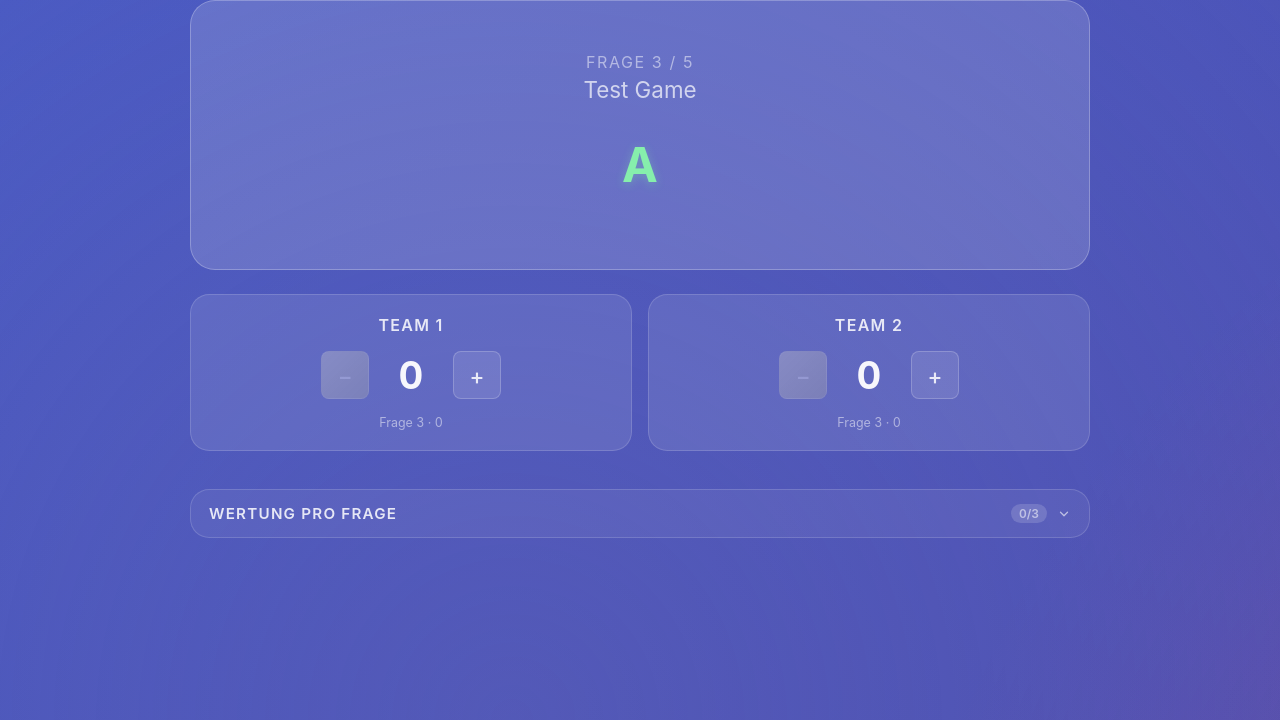
Test: QuestionScorePanel — tally feed (normal games) › is collapsed by default and expands on click
The image size is (1280, 720).
Expected: the element with class "gm-qscore" is shown, [190, 489, 1090, 538]
Click the text "Wertung pro Frage" at (303, 514), box [209, 504, 397, 523]
(page scrolled)
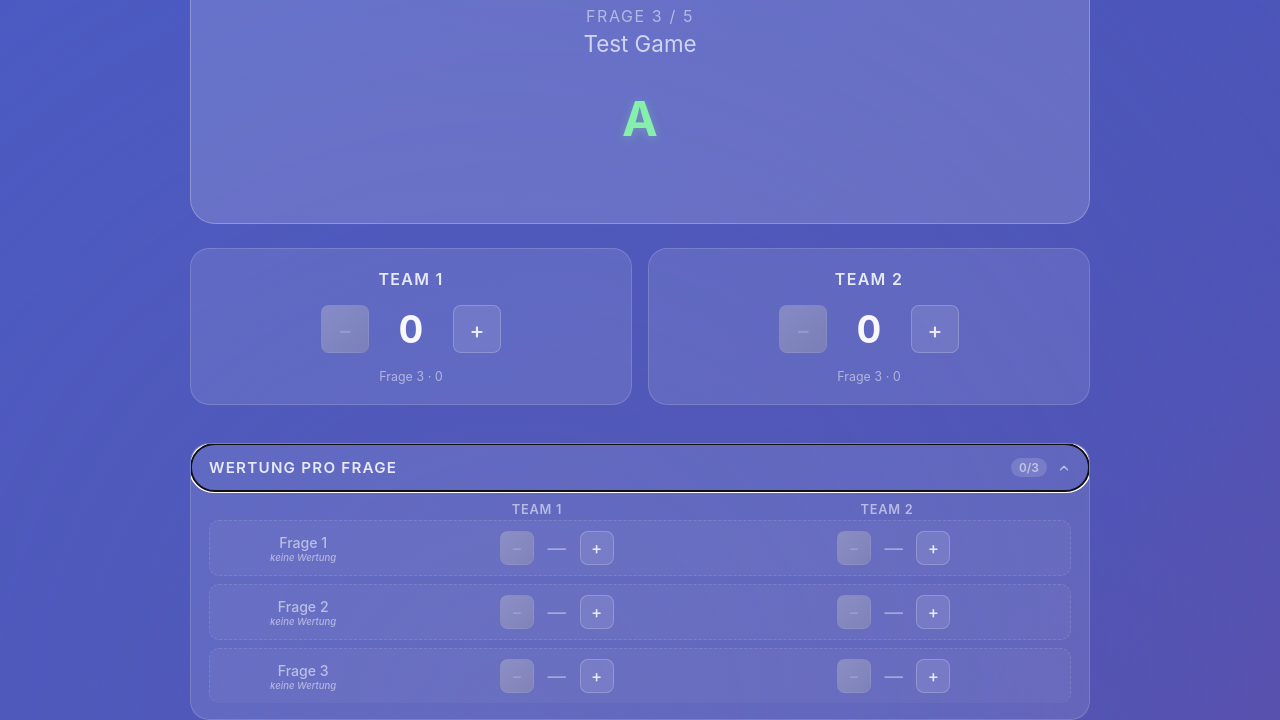
Expected: the list with class "gm-qscore-list" is shown, [209, 520, 1071, 703]
